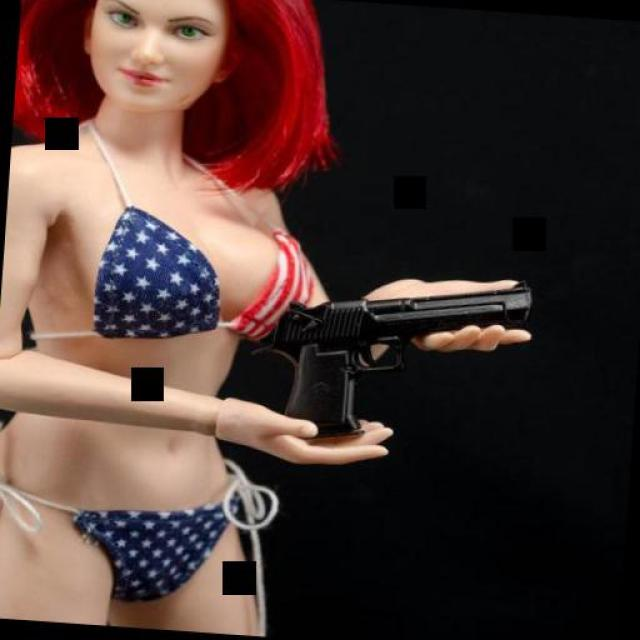gun: (261, 265, 534, 454)
